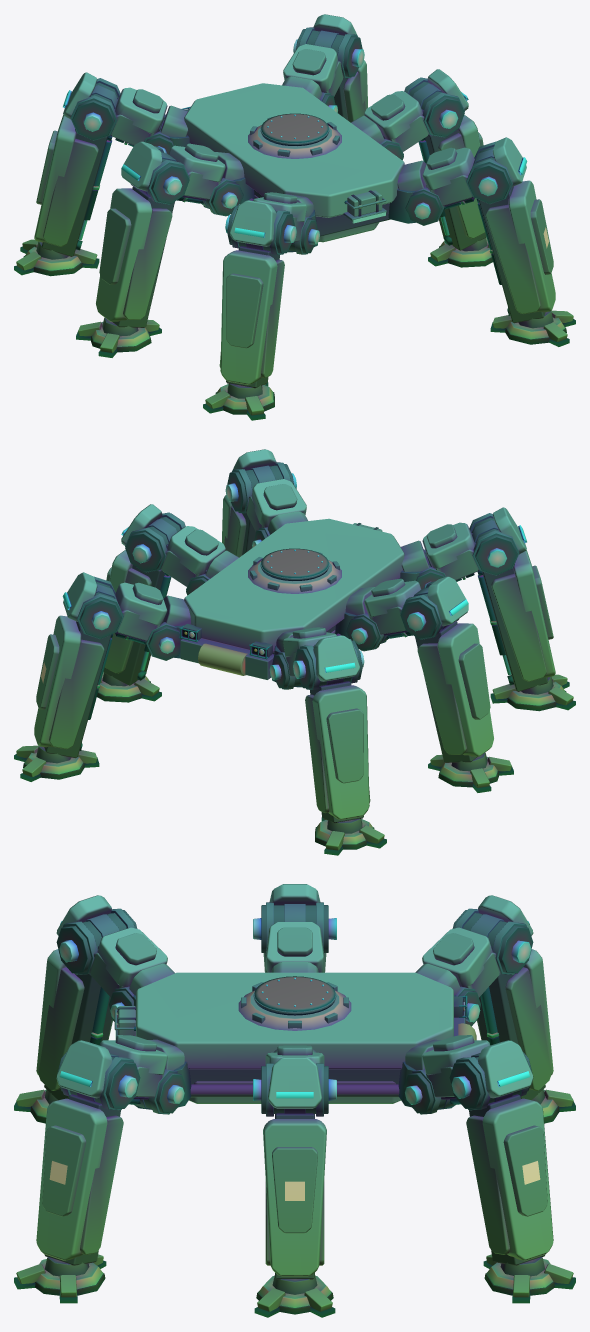
File: legs_hex_ant.glb
The picture shows the model from 3 angles, top to bottom: view 1: azimuth 30°, elevation 25°; view 2: azimuth 150°, elevation 25°; view 3: azimuth 270°, elevation 25°; orthographic projection. The views are drawn at different scales.
Visible parts, largest first — view 1: Body__armor, Leg_2_Knee__armor_sub, Leg_4_Knee__armor, Leg_5_Knee__armor_sub, Leg_4_Knee__armor_sub, Leg_0_Knee__armor_sub, Leg_2_Knee__armor, Body__dark, Leg_5_Knee__armor, Body__armor_sub, Leg_2_Femur__armor, Leg_4_Femur__armor (+45 smaller); view 2: Body__armor, Leg_2_Knee__armor_sub, Leg_0_Knee__armor, Leg_1_Knee__armor_sub, Leg_0_Knee__armor_sub, Leg_4_Knee__armor_sub, Leg_2_Knee__armor, Leg_1_Knee__armor, Leg_2_Femur__armor, Body__gunmetal, Body__dark, Leg_0_Femur__armor (+46 smaller); view 3: Body__armor, Leg_3_Knee__armor, Leg_1_Knee__armor_sub, Leg_5_Knee__armor_sub, Leg_1_Knee__armor, Leg_5_Knee__armor, Body__dark, Leg_3_Knee__armor_sub, Body__armor_sub, Leg_1_Femur__armor, Leg_5_Femur__armor, Leg_0_Knee__armor_sub (+45 smaller).
Part boxes in pixels (box(x1,y1,x2,y2)): Body__armor: box(184, 83, 404, 217); Leg_2_Knee__armor_sub: box(99, 208, 172, 319); Leg_4_Knee__armor: box(220, 250, 277, 384); Leg_5_Knee__armor_sub: box(485, 199, 553, 313); Leg_4_Knee__armor_sub: box(219, 259, 284, 377); Leg_0_Knee__armor_sub: box(36, 130, 98, 246); Leg_2_Knee__armor: box(96, 188, 152, 321); Body__dark: box(184, 109, 390, 236); Leg_5_Knee__armor: box(508, 180, 555, 312); Body__armor_sub: box(248, 125, 382, 242); Leg_2_Femur__armor: box(121, 141, 225, 191); Leg_4_Femur__armor: box(230, 197, 306, 246); Body__armor: box(184, 518, 404, 652); Leg_2_Knee__armor_sub: box(417, 643, 490, 754); Leg_0_Knee__armor: box(312, 685, 369, 819); Leg_1_Knee__armor_sub: box(36, 634, 104, 748); Leg_0_Knee__armor_sub: box(305, 694, 370, 812); Leg_4_Knee__armor_sub: box(491, 565, 553, 681); Leg_2_Knee__armor: box(437, 623, 493, 756); Leg_1_Knee__armor: box(34, 615, 81, 747); Leg_2_Femur__armor: box(364, 576, 468, 626); Body__gunmetal: box(179, 551, 340, 679); Body__dark: box(182, 548, 335, 656); Leg_0_Femur__armor: box(283, 632, 359, 681); Body__armor: box(136, 972, 453, 1069); Leg_3_Knee__armor: box(263, 1119, 326, 1276); Leg_1_Knee__armor_sub: box(466, 1115, 547, 1254); Leg_5_Knee__armor_sub: box(42, 1115, 123, 1254); Leg_1_Knee__armor: box(482, 1098, 553, 1260); Leg_5_Knee__armor: box(36, 1098, 107, 1260); Body__dark: box(134, 976, 463, 1084); Leg_3_Knee__armor_sub: box(265, 1123, 324, 1265); Body__armor_sub: box(118, 990, 401, 1103); Leg_1_Femur__armor: box(422, 1040, 533, 1098); Leg_5_Femur__armor: box(56, 1040, 167, 1098); Leg_0_Knee__armor_sub: box(477, 967, 551, 1090).
Bounding box in the file's own units: 4.04 × 1.75 × 3.96.
